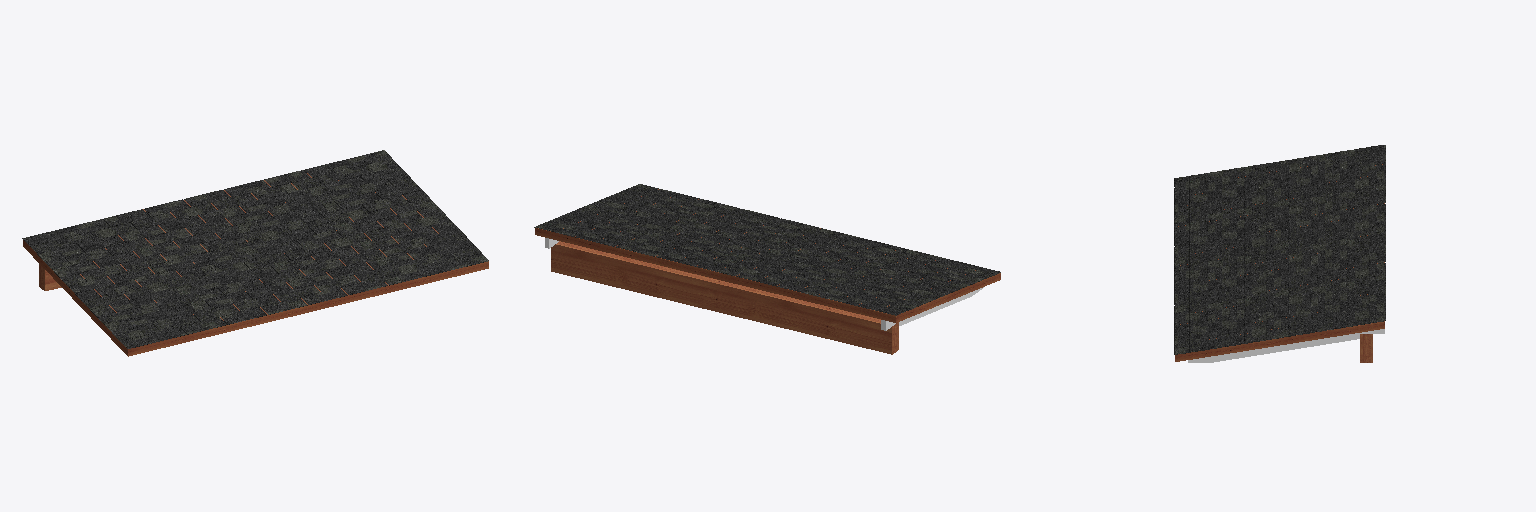
The picture shows the model from 3 angles: view 1: azimuth 30°, elevation 25°; view 2: azimuth 150°, elevation 25°; view 3: azimuth 270°, elevation 25°; orthographic projection.
Visible parts, largest first — view 1: shingles, roof; view 2: shingles, trim, roof; view 3: shingles, roof, rafter001.
Boxes of the visible parts, x1=… form: shingles: x1=22, y1=150, x2=488, y2=348; roof: x1=23, y1=173, x2=488, y2=356; shingles: x1=534, y1=184, x2=1000, y2=315; trim: x1=551, y1=241, x2=898, y2=354; roof: x1=535, y1=189, x2=1000, y2=322; shingles: x1=1174, y1=145, x2=1385, y2=354; roof: x1=1175, y1=164, x2=1384, y2=361; rafter001: x1=1188, y1=329, x2=1384, y2=362.
Bounding box in the file's own units: 153 × 18.72 × 77.06.
Materials: 4 (3 with a texture image).